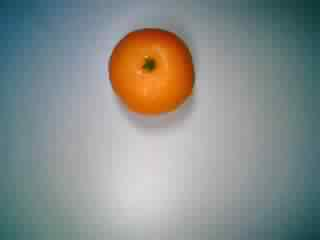orange: (102, 25, 199, 119)
